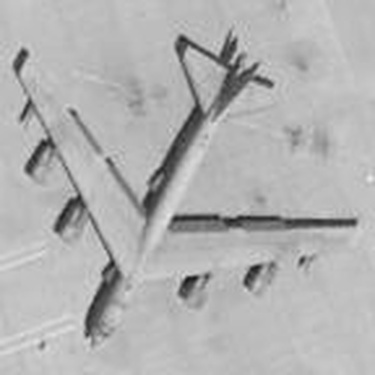airplane: (8, 25, 367, 357)
